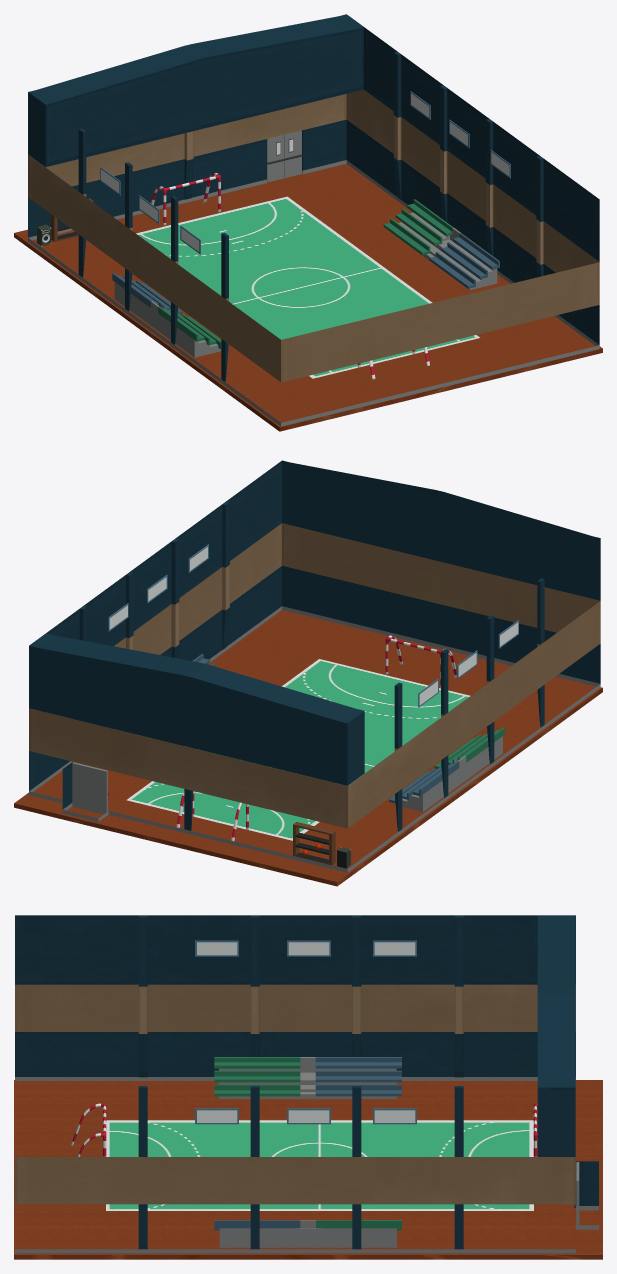
Rendered from handballV5.fbx.
3 renders of one model, top to bottom at view 1: azimuth 30°, elevation 25°; view 2: azimuth 150°, elevation 25°; view 3: azimuth 270°, elevation 25°, orthographic. The views are drawn at different scales.
Parts seen in each view (by area): view 1: edificio, piso.001, cancha, castillos, gradasVerdesIzq.001, gradasAzulesIzq.001, gradasVerdesIzq, puerta.001, gradasAzulesIzq, porteria2; view 2: edificio, piso.001, cancha, castillos, gradasAzulesIzq, puerta.001, gradasVerdesIzq, estante, porteria1; view 3: edificio, piso.001, cancha, castillos, gradasVerdesIzq, gradasAzulesIzq, gradasVerdesIzq.001, gradasAzulesIzq.001, ventana, ventana2, ventana3, ventana4 (+3 smaller).
Part boxes in pixels (x1=…): edificio: x1=28, y1=14, x2=599, y2=426; piso.001: x1=14, y1=163, x2=602, y2=431; cancha: x1=136, y1=196, x2=479, y2=378; castillos: x1=78, y1=51, x2=543, y2=381; gradasVerdesIzq.001: x1=383, y1=199, x2=460, y2=264; gradasAzulesIzq.001: x1=429, y1=233, x2=499, y2=289; gradasVerdesIzq: x1=149, y1=301, x2=221, y2=357; puerta.001: x1=267, y1=130, x2=302, y2=182; gradasAzulesIzq: x1=112, y1=273, x2=182, y2=323; porteria2: x1=151, y1=173, x2=220, y2=225; edificio: x1=29, y1=460, x2=600, y2=872; piso.001: x1=14, y1=610, x2=602, y2=886; cancha: x1=126, y1=659, x2=470, y2=840; castillos: x1=79, y1=501, x2=544, y2=831; gradasAzulesIzq: x1=389, y1=761, x2=459, y2=811; puerta.001: x1=72, y1=762, x2=108, y2=814; gradasVerdesIzq: x1=434, y1=727, x2=504, y2=786; estante: x1=293, y1=822, x2=335, y2=865; porteria1: x1=385, y1=635, x2=456, y2=687; edificio: x1=15, y1=915, x2=598, y2=1253; piso.001: x1=14, y1=1080, x2=602, y2=1259; cancha: x1=106, y1=1120, x2=533, y2=1210; castillos: x1=138, y1=915, x2=463, y2=1249; gradasVerdesIzq: x1=214, y1=1057, x2=320, y2=1098; gradasAzulesIzq: x1=315, y1=1057, x2=401, y2=1098; gradasVerdesIzq.001: x1=295, y1=1220, x2=401, y2=1247; gradasAzulesIzq.001: x1=214, y1=1220, x2=300, y2=1247; ventana: x1=373, y1=940, x2=416, y2=956; ventana2: x1=287, y1=940, x2=330, y2=956; ventana3: x1=195, y1=940, x2=238, y2=956; ventana4: x1=373, y1=1108, x2=416, y2=1124.
Bounding box in the file's own units: 4791 × 2290 × 6818.
